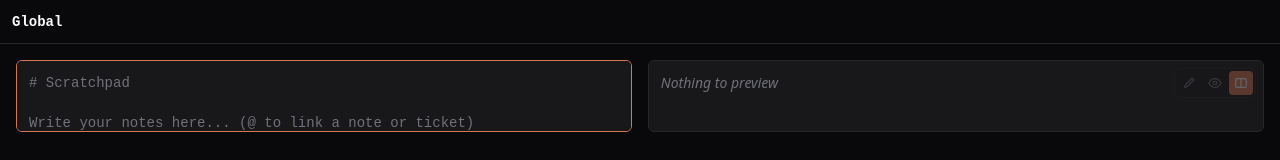
ScratchpadMainView — mention autocomplete › offers the notes on a bare @
Replace the text in the text box with "@": (324, 96) x1=16 y1=60 x2=632 y2=132
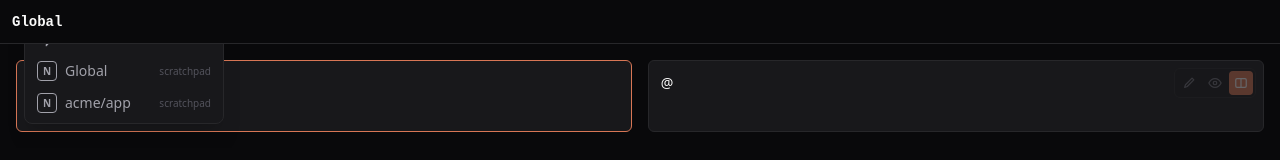
Now the button "N Global scratchpad" is shown, box x1=25 y1=55 x2=223 y2=87
Now the button "N acme/app scratchpad" is shown, box x1=25 y1=87 x2=223 y2=119
